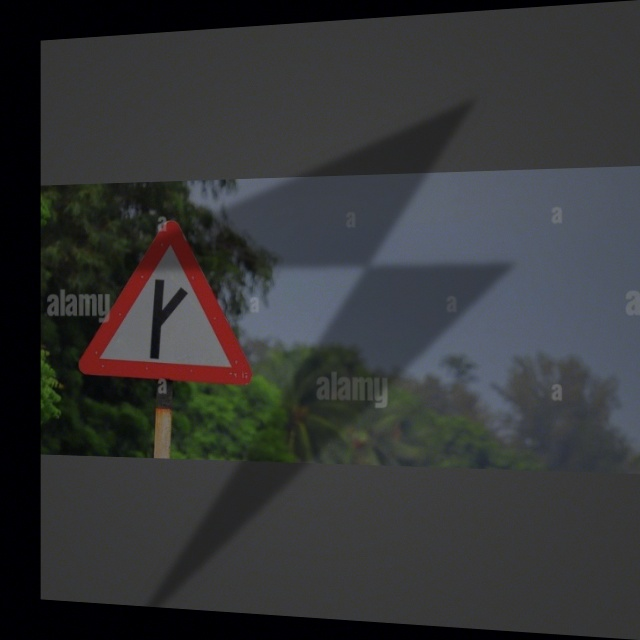Y_Intersection: (86, 213, 248, 387)
